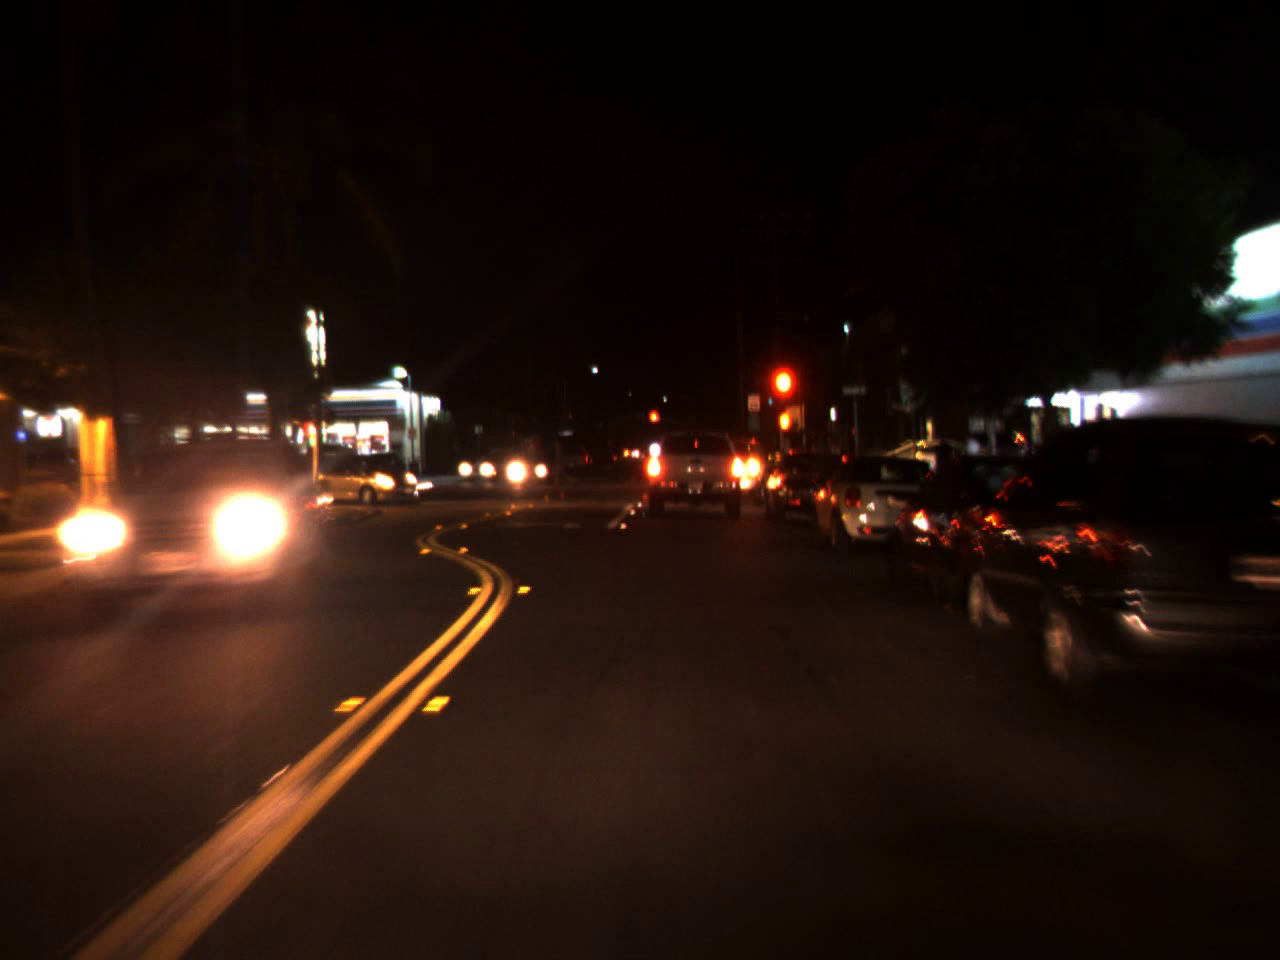stop: (768, 362, 798, 432), (647, 409, 660, 436)
